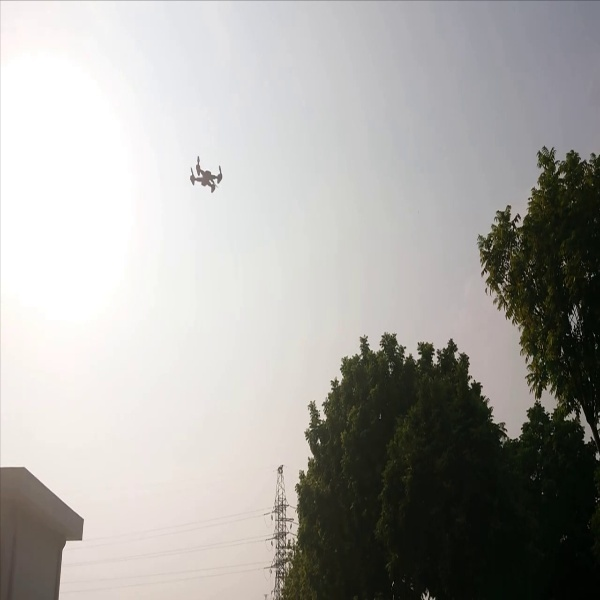drone: (185, 155, 228, 197)
